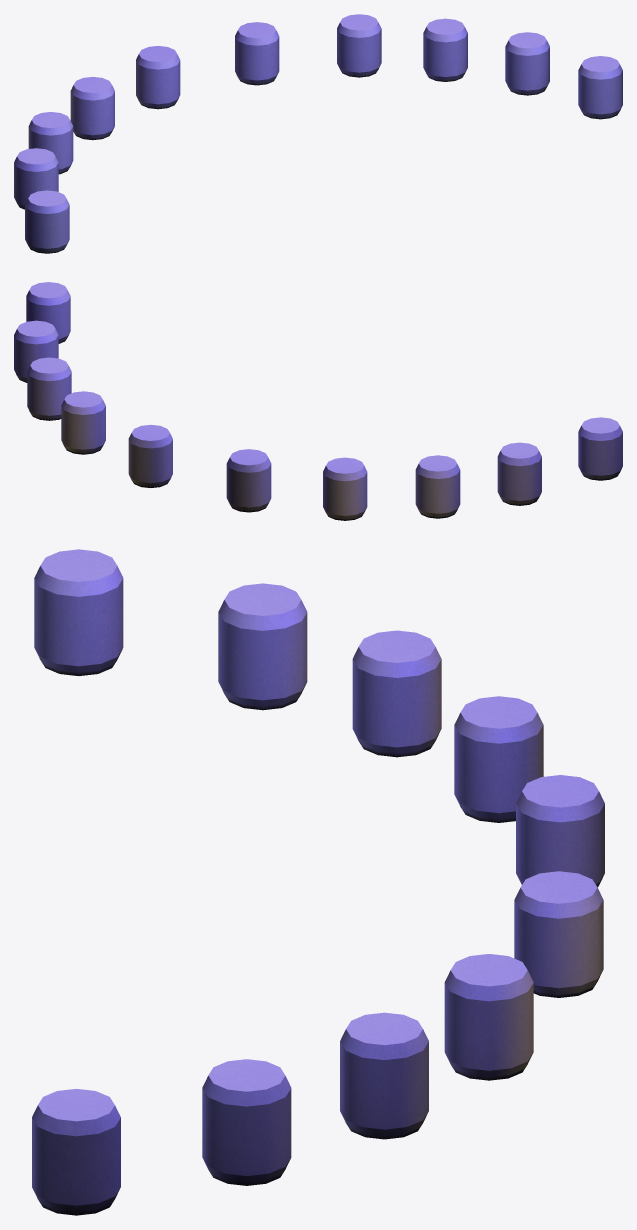
Rendered from ey_verse_stools.glb.
3 renders of one model, top to bottom at view 1: azimuth 30°, elevation 25°; view 2: azimuth 150°, elevation 25°; view 3: azimuth 270°, elevation 25°, orthographic. The views are drawn at different scales.
Visible parts, largest first — view 1: ey_verse_stools; view 2: ey_verse_stools; view 3: ey_verse_stools.
Part boxes in pixels (x1,y1,x2,y2): ey_verse_stools: (14,14,622,253); ey_verse_stools: (14,282,622,520); ey_verse_stools: (32,549,604,1215).
Bounding box in the file's own units: 6.35 × 0.4838 × 2.67.
Materials: 1 (1 with a texture image).
